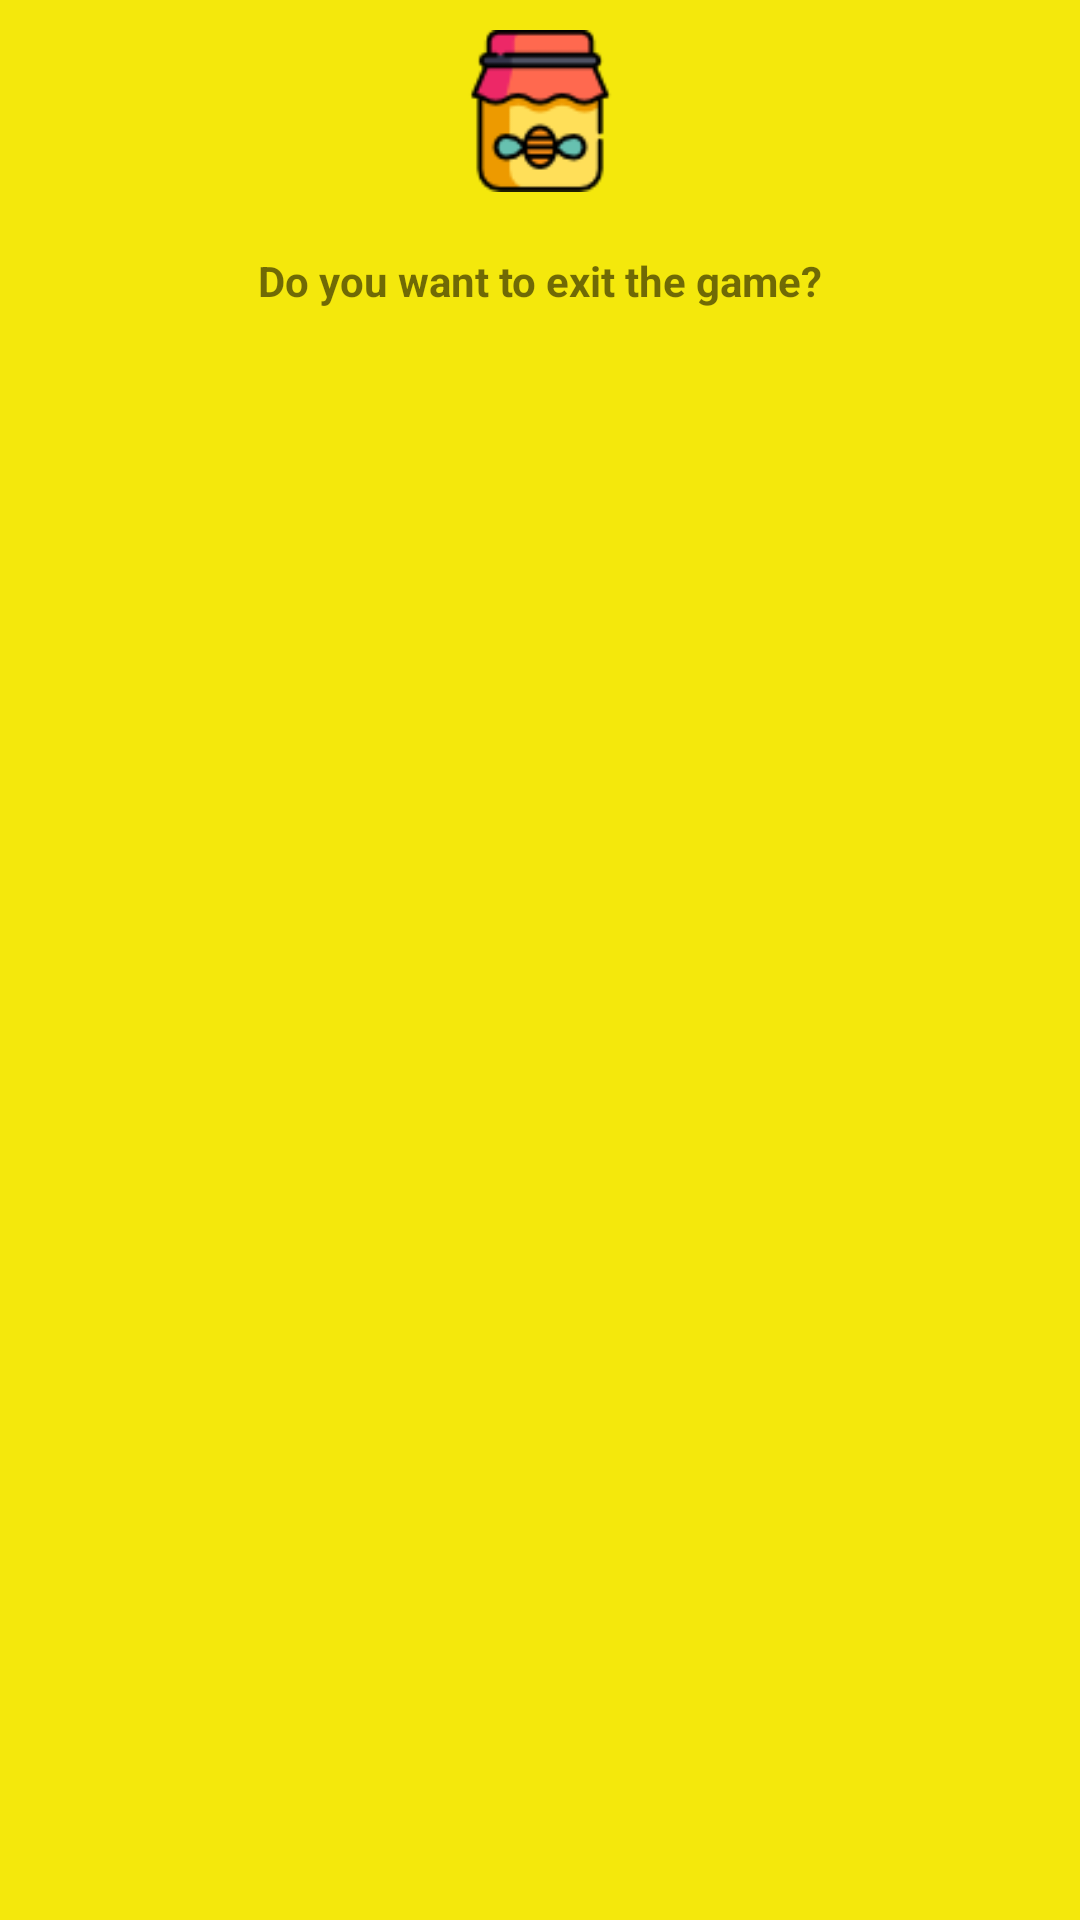

Icon bounding boxes for this 1080*1920 phone screenshot, format (x1, y1, x2, y2):
Honey: (471, 30, 610, 192)
